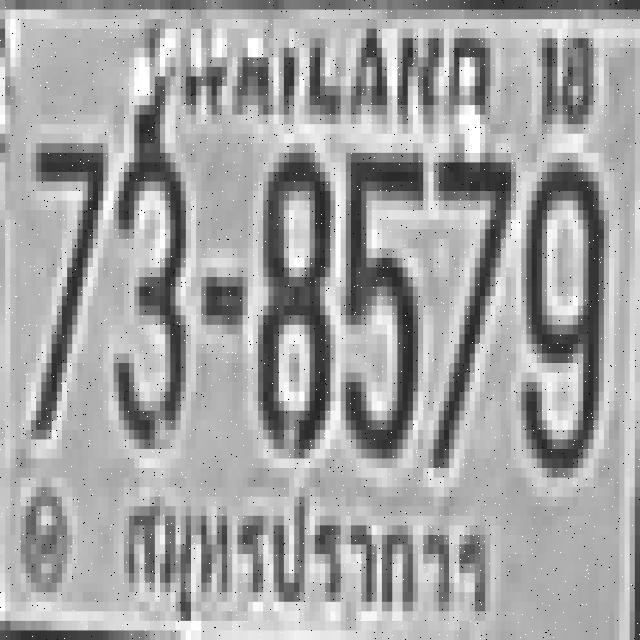3: (111, 133, 183, 440)
5: (341, 143, 418, 449)
7: (428, 148, 511, 463), (31, 134, 103, 430)
8: (253, 148, 325, 444)
9: (516, 153, 598, 468)
SamutPrakan: (114, 474, 499, 636)
